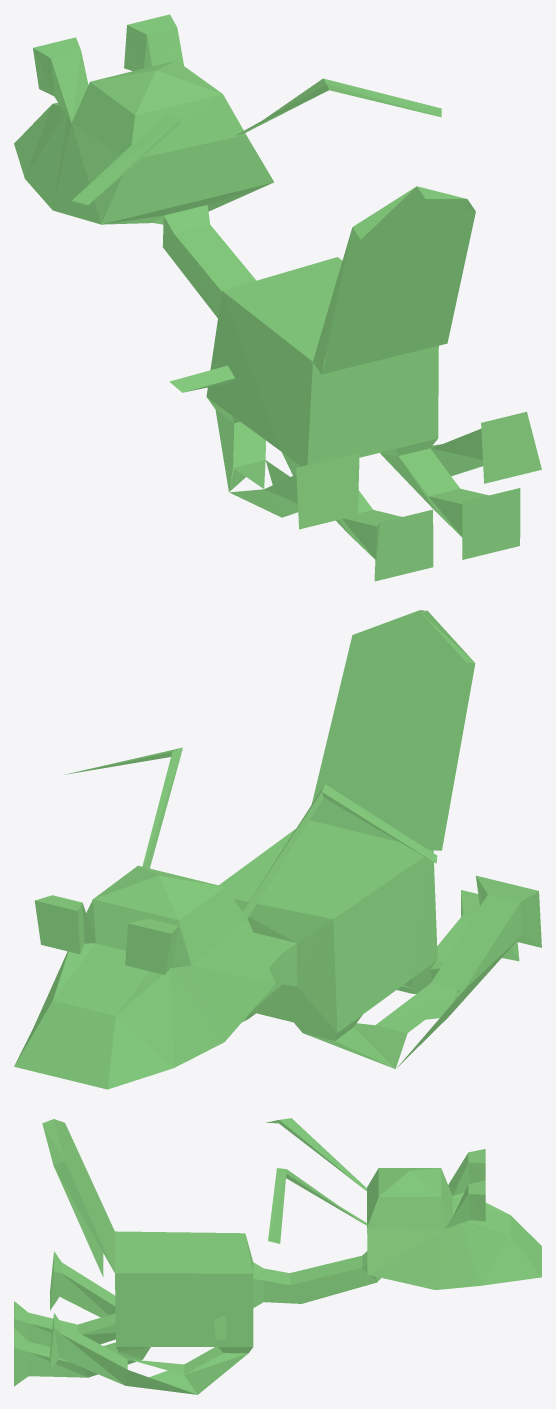
Rendered from godflycycle.glb.
3 renders of one model, top to bottom at view 1: azimuth 30°, elevation 25°; view 2: azimuth 150°, elevation 25°; view 3: azimuth 270°, elevation 25°, orthographic. The views are drawn at different scales.
Visible parts, largest first — view 1: godflycycle; view 2: godflycycle; view 3: godflycycle.
Boxes of the visible parts, left/top/right/bottom form: godflycycle: left=14, top=14, right=541, bottom=581; godflycycle: left=14, top=610, right=541, bottom=1089; godflycycle: left=14, top=1118, right=541, bottom=1394.
Bounding box in the file's own units: 86.3 × 80.49 × 155.
